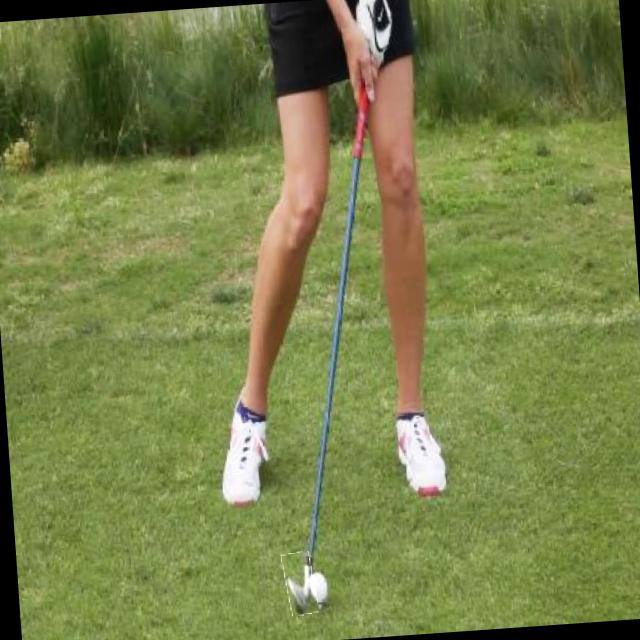club head: (282, 551, 318, 615)
